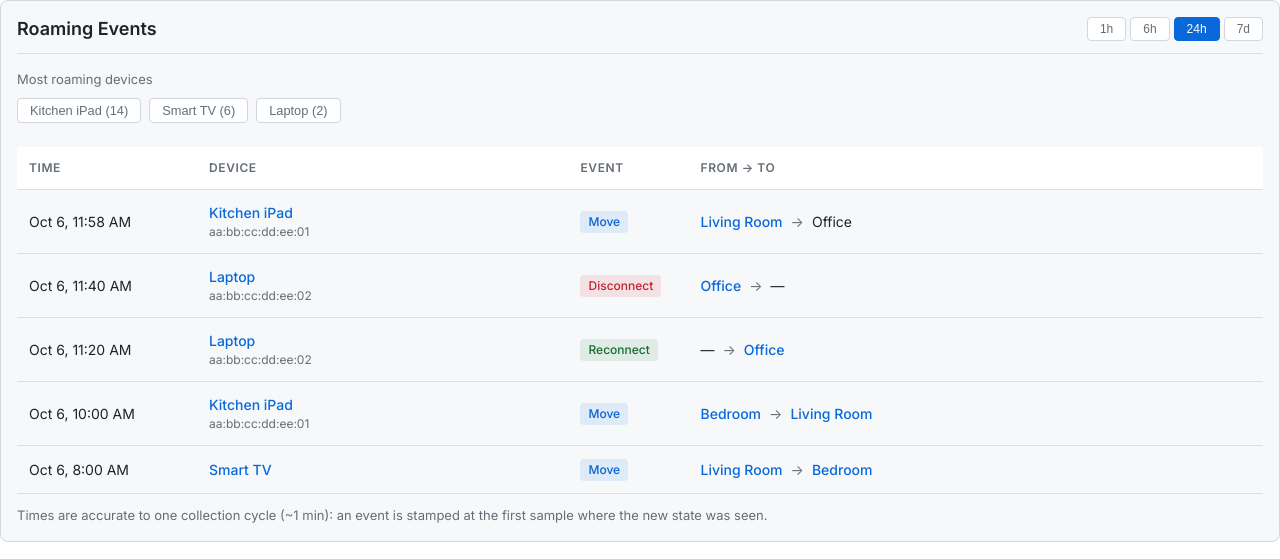
Test: RoamingEventsCard › filters to a top roamer on click and clears back to all devices
Expected: the text "Most roaming devices" is shown, [17, 71, 153, 87]
Click the button "Kitchen iPad (14)".
click(79, 110)  # box [17, 98, 141, 122]
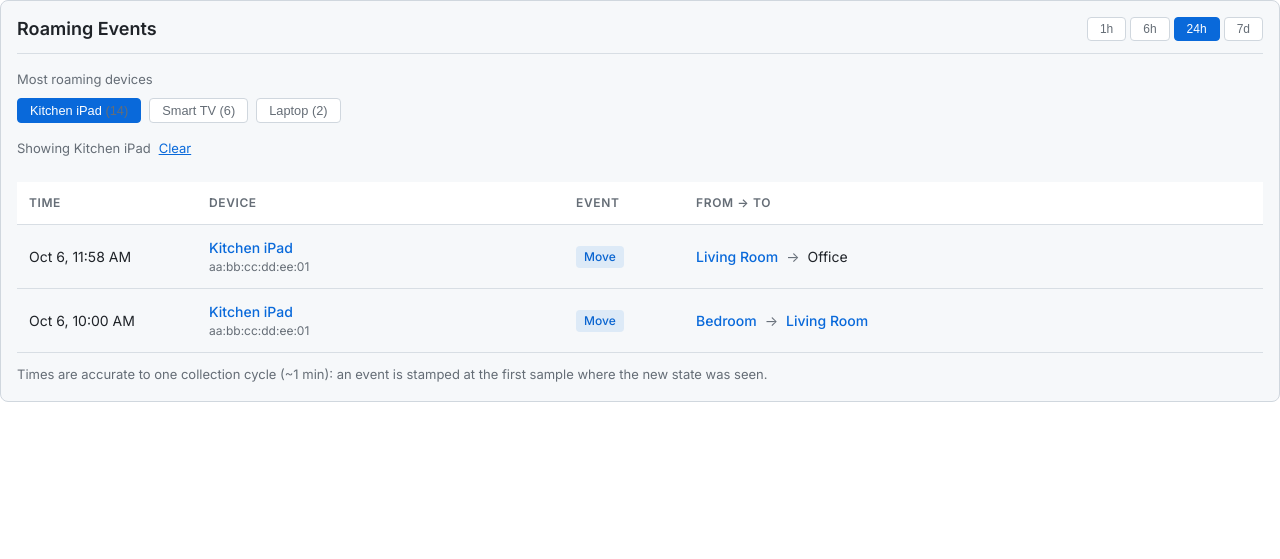
Result: the text "Showing Kitchen iPad Clear" is shown at [17, 138, 191, 158]
Click the button "Clear".
click(175, 148)  # box [159, 138, 191, 158]
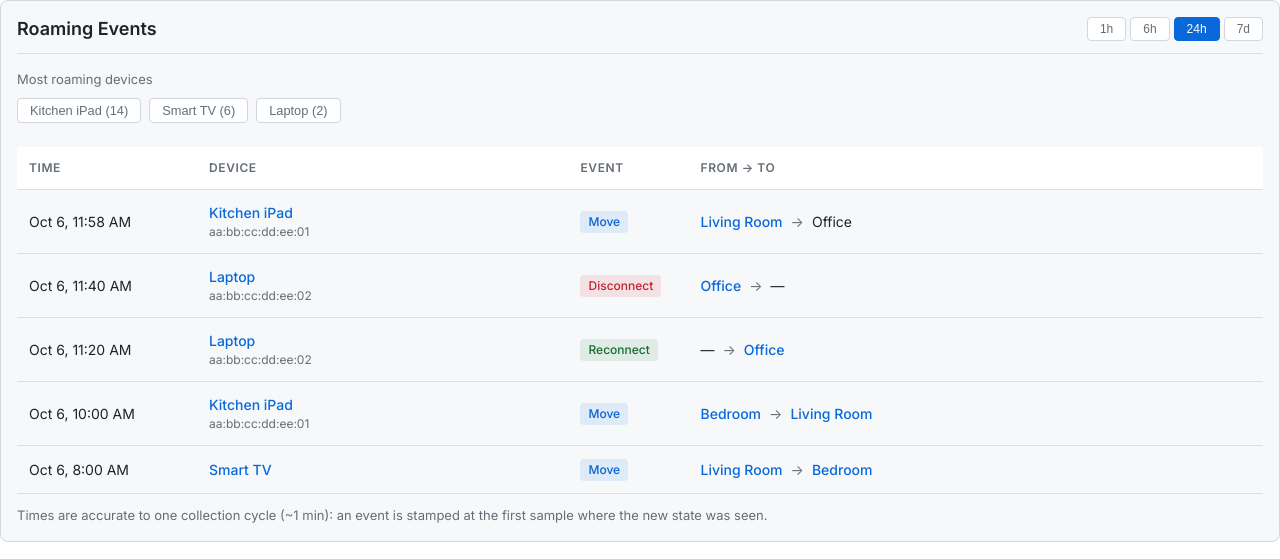
Result: the link "Laptop" next to "Oct 6, 11:40 AM" is shown at [209, 268, 255, 284]
Result: the text "Showing Kitchen iPad" is gone
